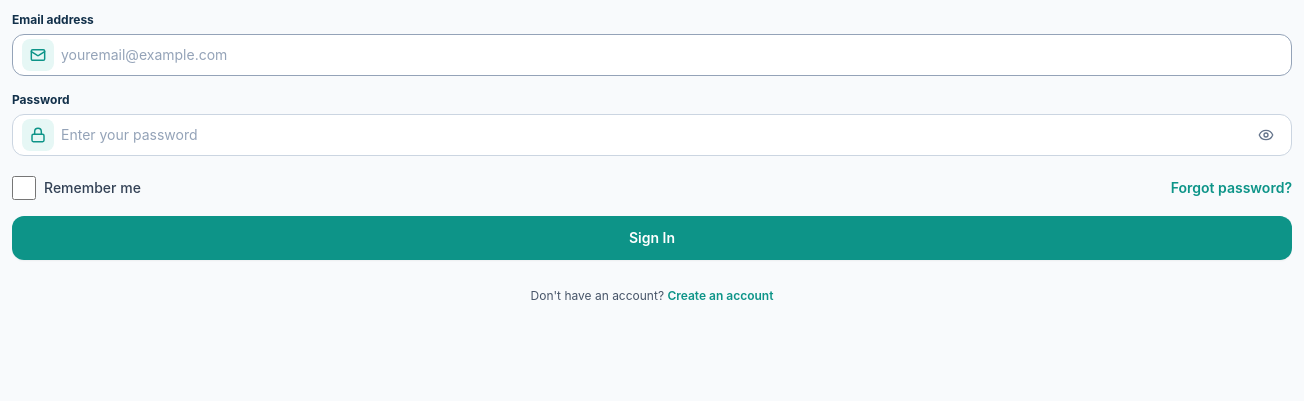
Test: Phase 16: Frontend Regression Coverage (Auth, Badges, Notifications) › LoginForm validates empty/invalid credentials and displays server authentication errors
Click the button "Sign In". click: (652, 238)
box: [12,216,1292,260]
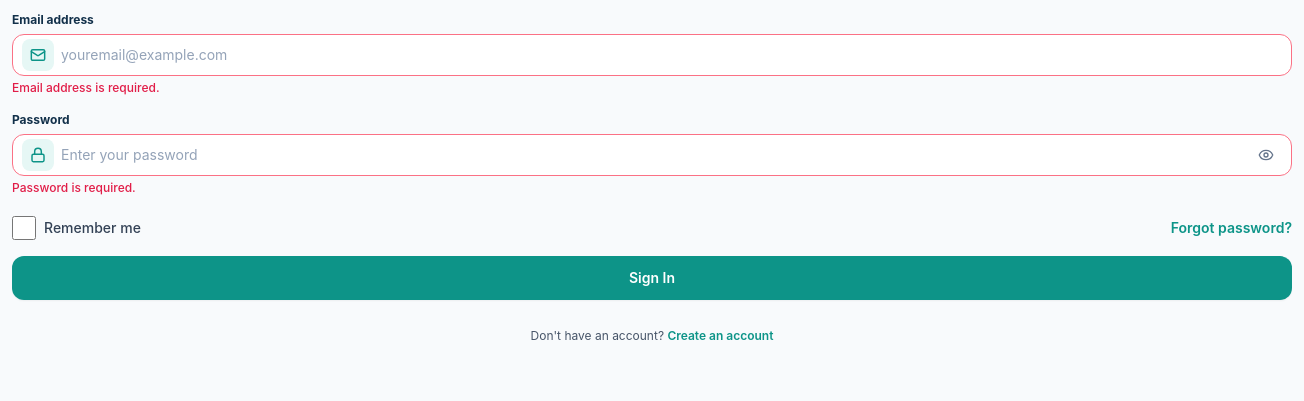
Type "patient.test@example.com" into the field labelled "Email address". click: (652, 55)
box: [12,34,1292,76]
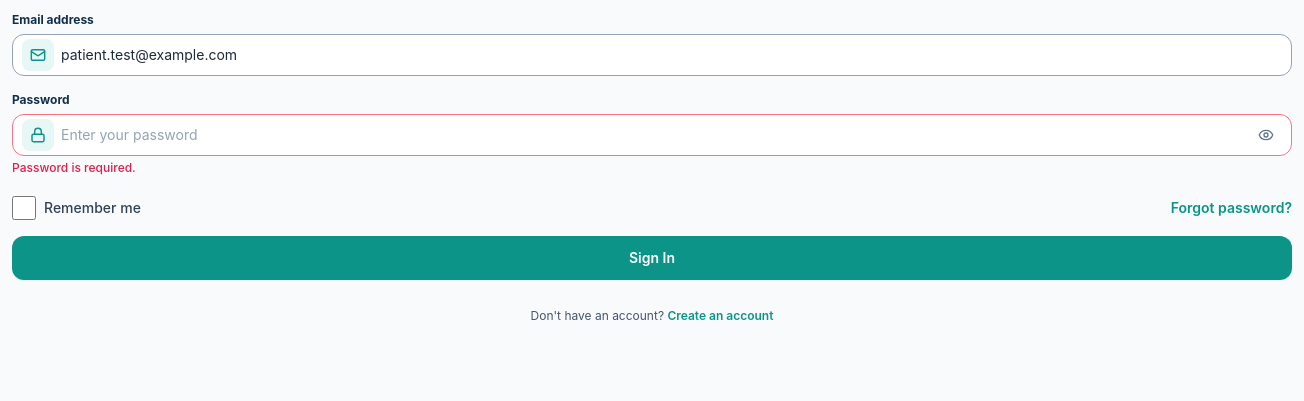
Type "WrongPassword123!" into the password field with placeholder "Enter your password". click: (652, 135)
box: [12,114,1292,156]
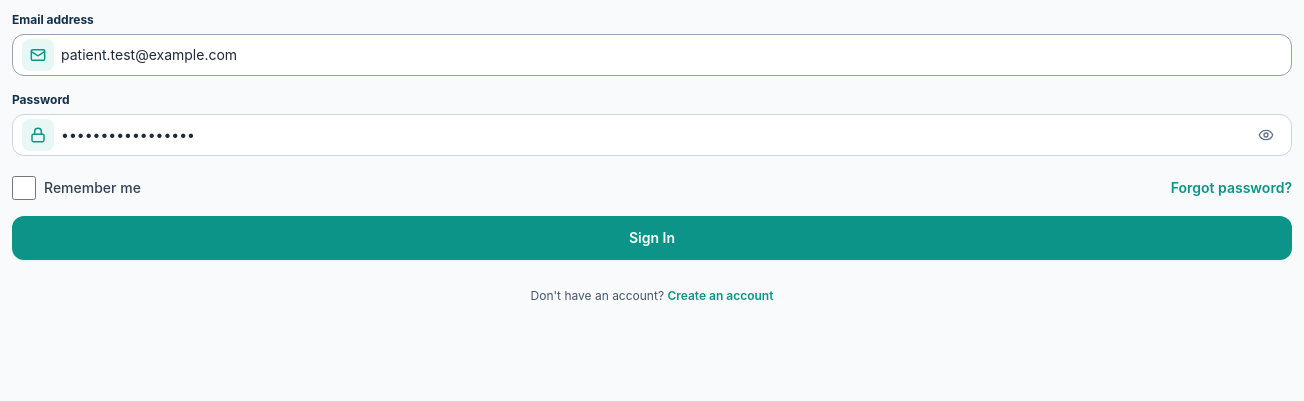
Click the button "Sign In". click: (652, 238)
box: [12,216,1292,260]
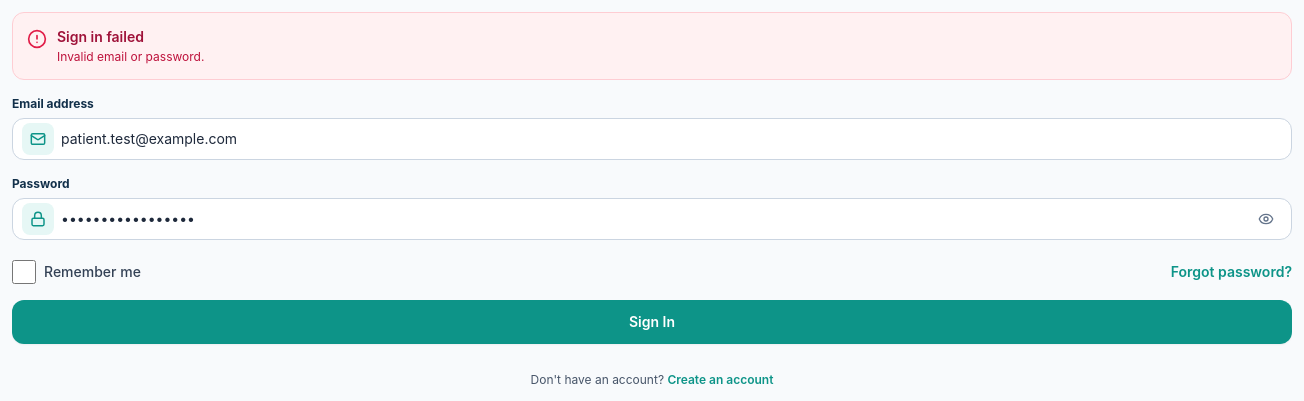
expect the text "Invalid email or password." is shown: met, box [57,49,204,64]
